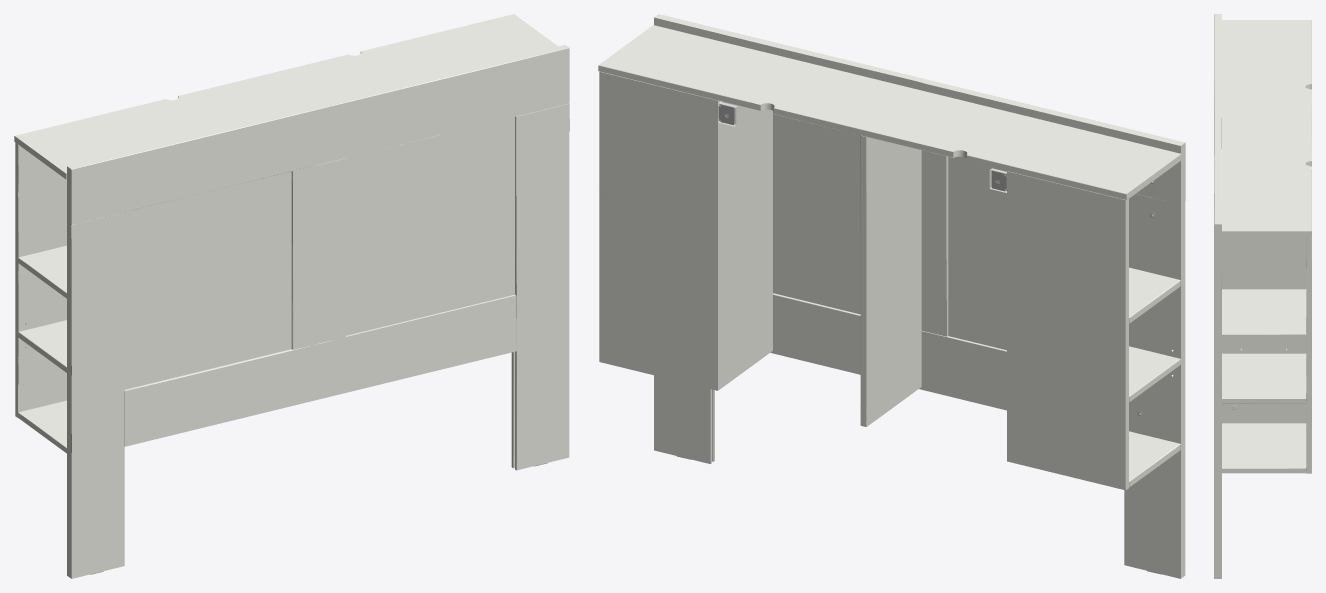
Rendered from brimnes_zagowek_ze_schowkiem_20228709.glb.
The picture shows the model from 3 angles, left to right: view 1: azimuth 30°, elevation 25°; view 2: azimuth 150°, elevation 25°; view 3: azimuth 270°, elevation 25°; orthographic projection. The views are drawn at different scales.
Visible parts, largest first — view 1: brimnes_zagowek_ze_schowkiem_20228709; view 2: brimnes_zagowek_ze_schowkiem_20228709; view 3: brimnes_zagowek_ze_schowkiem_20228709.
Boxes of the visible parts, x1,y1,x2,y2 form: brimnes_zagowek_ze_schowkiem_20228709: [14, 14, 569, 578]; brimnes_zagowek_ze_schowkiem_20228709: [598, 14, 1185, 578]; brimnes_zagowek_ze_schowkiem_20228709: [1214, 14, 1311, 578].
Size of the model in its own units: 1.4 by 1.1 by 0.275.
1 material, 1 textured.
